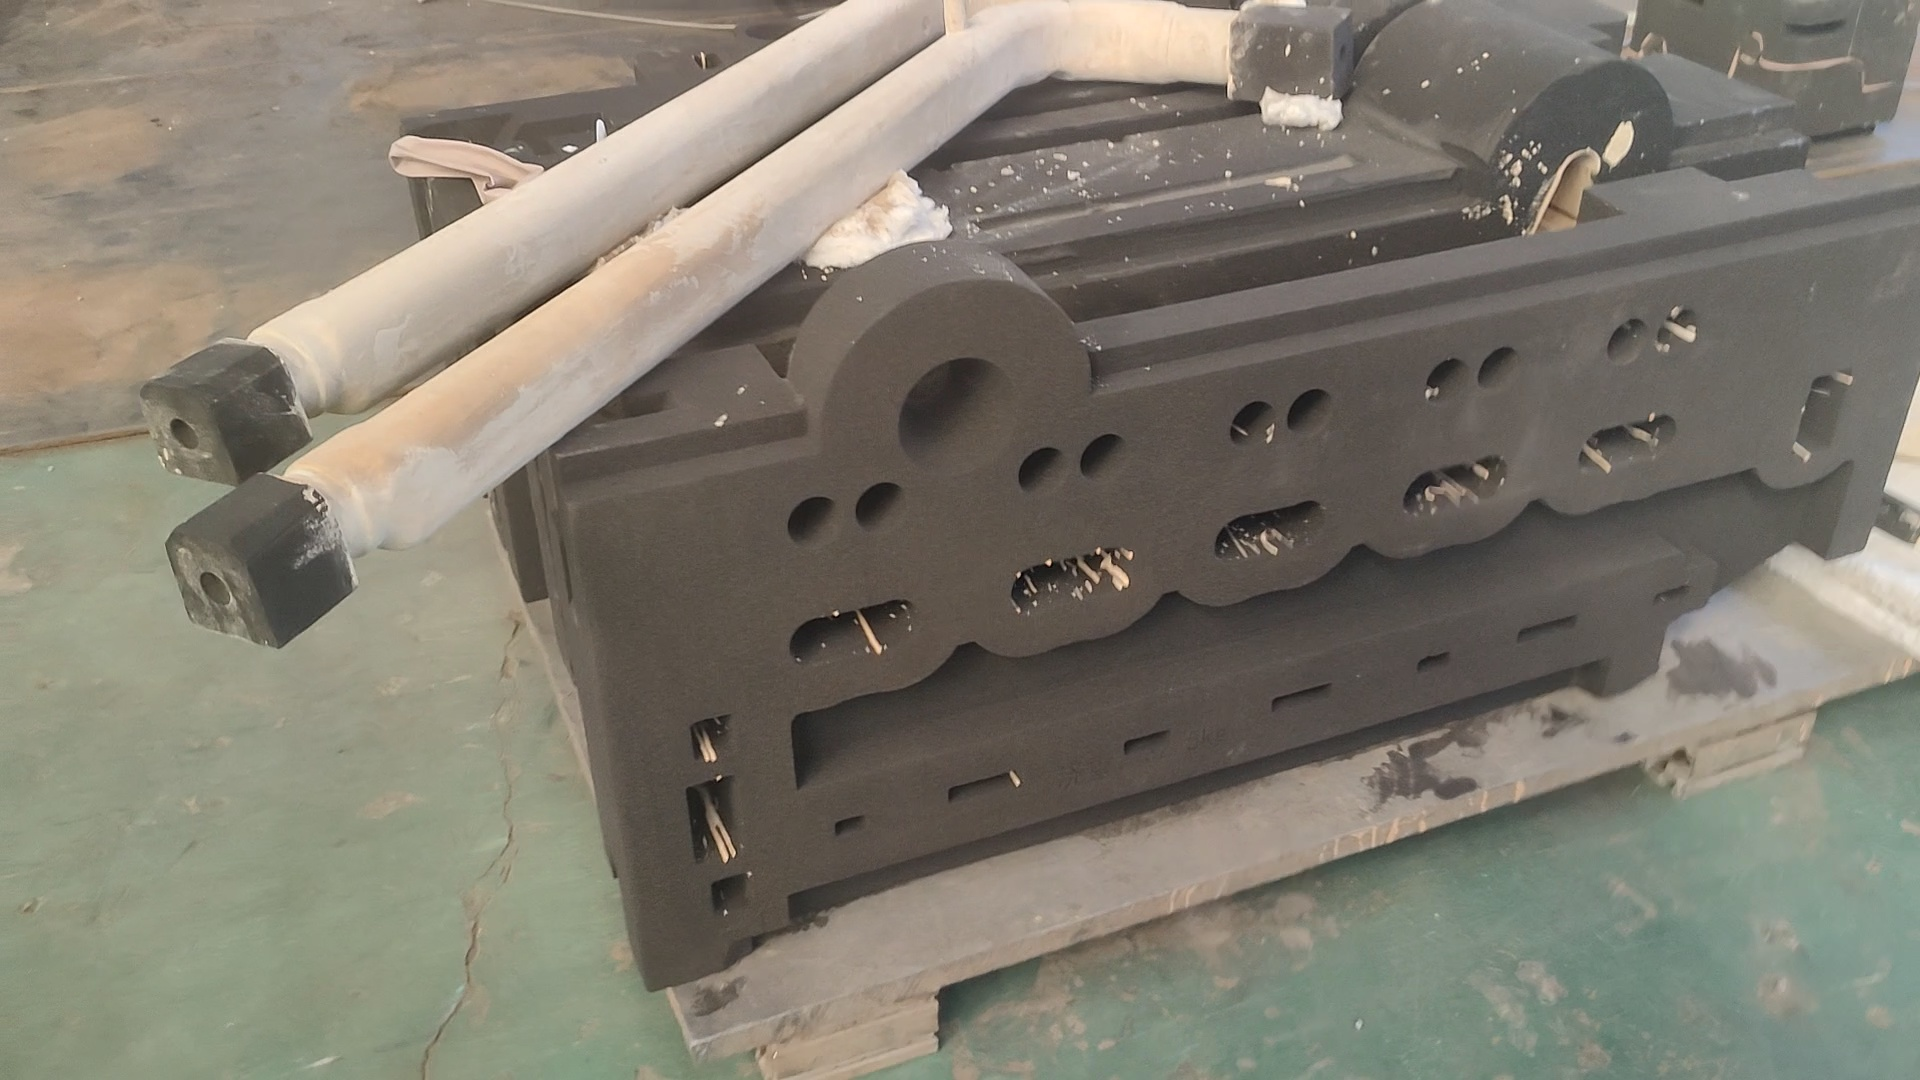pouring hole: (898, 357, 1018, 477), (742, 18, 799, 41)
